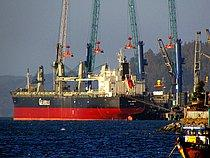Ship: (11, 62, 163, 126)
